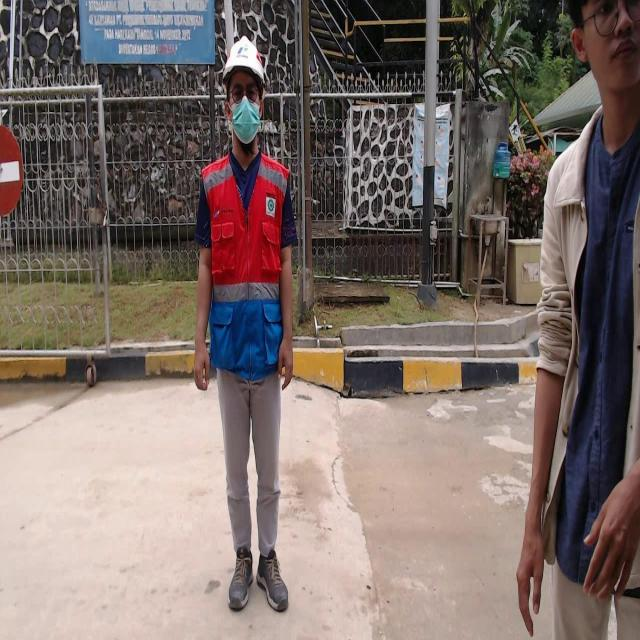helmet: (219, 29, 268, 87)
